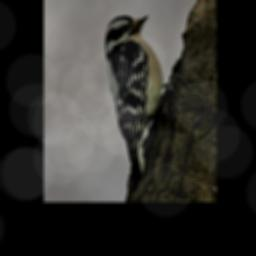Woodpecker: (103, 11, 183, 196)
